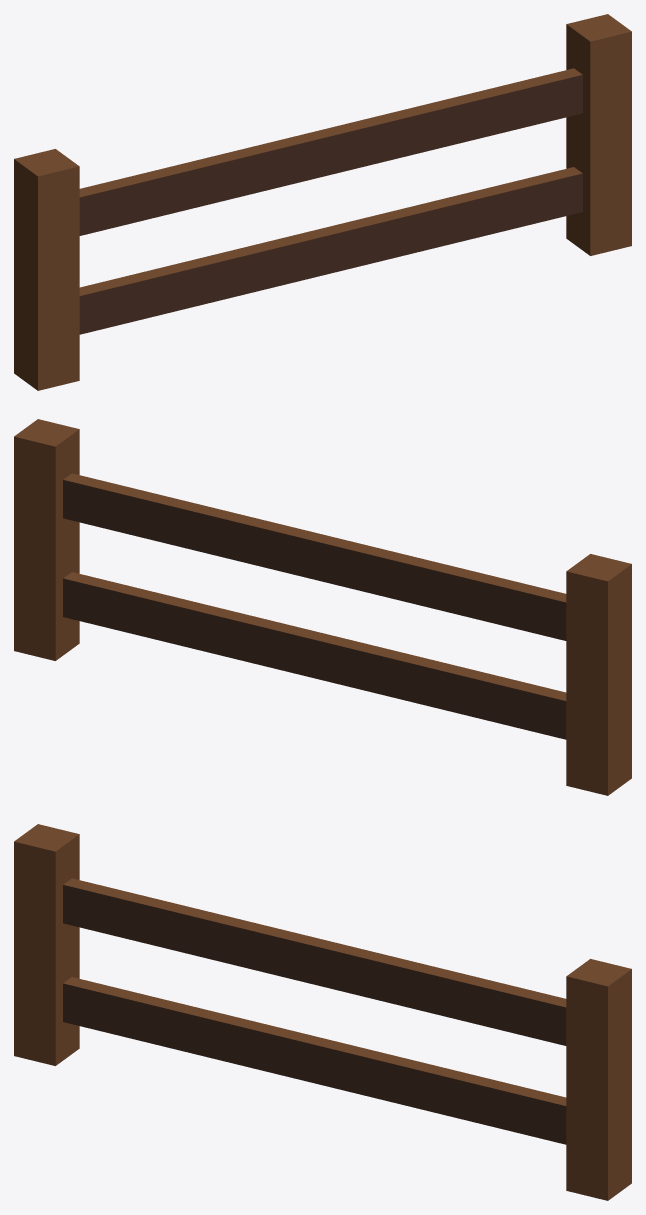
File: fence_simple.glb
3 renders of one model, top to bottom at view 1: azimuth 30°, elevation 25°; view 2: azimuth 150°, elevation 25°; view 3: azimuth 330°, elevation 25°, orthographic.
Visible parts, largest first — view 1: fence_simple; view 2: fence_simple; view 3: fence_simple.
Part boxes in pixels (x1,y1,x2,y2): fence_simple: (14, 14, 631, 390); fence_simple: (14, 419, 631, 795); fence_simple: (14, 824, 631, 1200).
Bounding box in the file's own units: 1 × 0.345 × 0.07.
